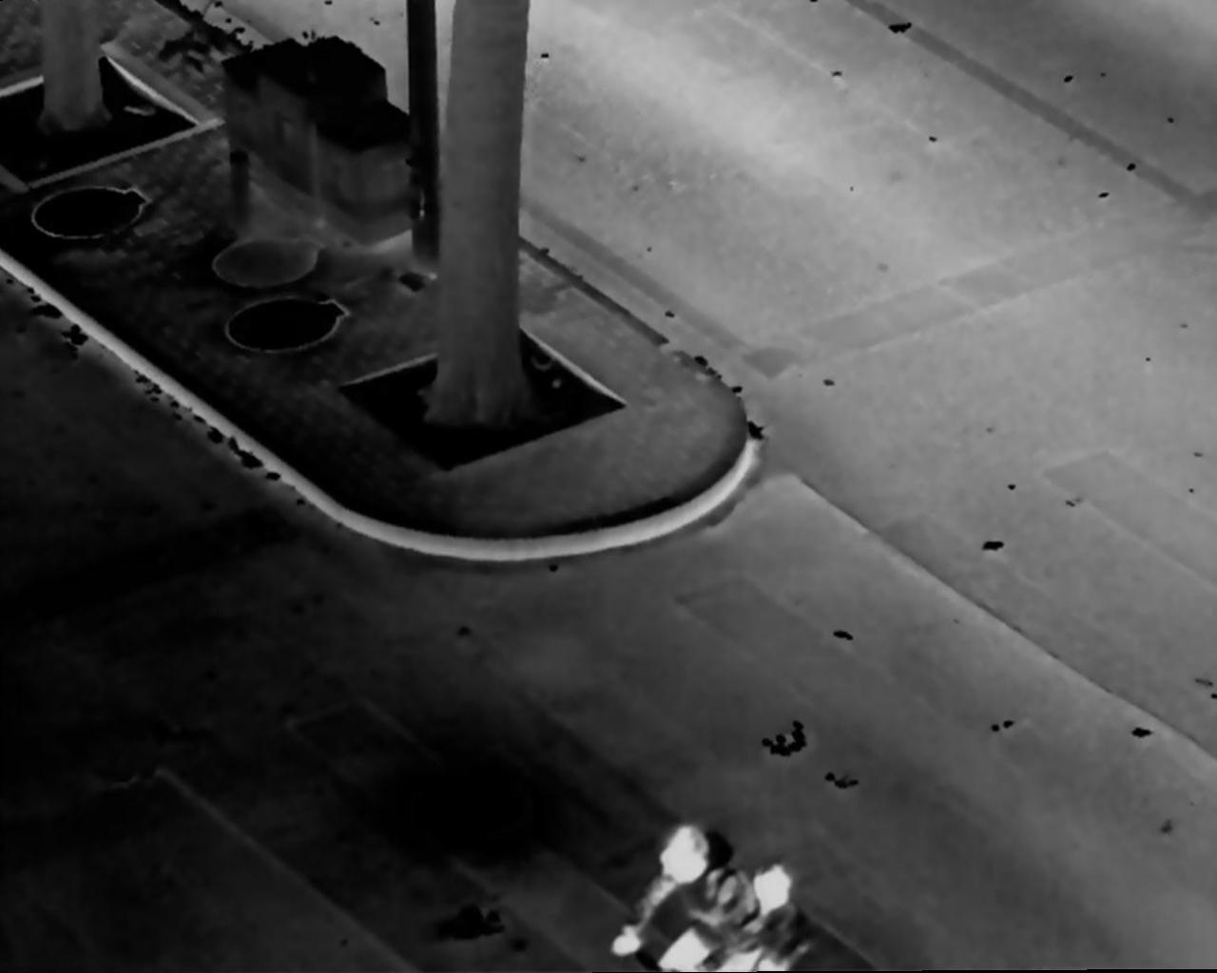person: (612, 824, 758, 973), (751, 865, 809, 968)
